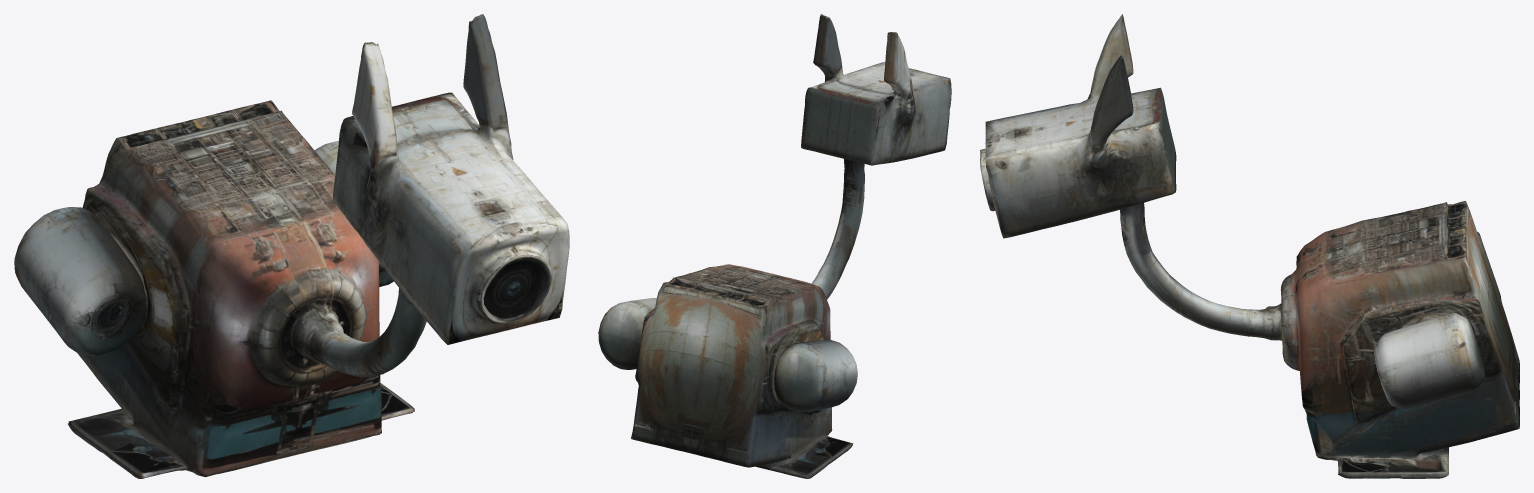
The model's file is caballo_02.glb.
3 renders of one model, left to right at view 1: azimuth 30°, elevation 25°; view 2: azimuth 150°, elevation 25°; view 3: azimuth 270°, elevation 25°, orthographic. The views are drawn at different scales.
Size of the model in its own units: 1.14 by 1.62 by 2.
1 material, 1 textured.
